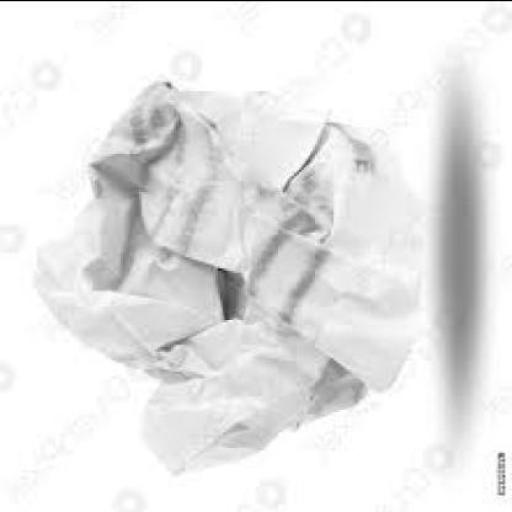paper: (30, 76, 417, 472)
